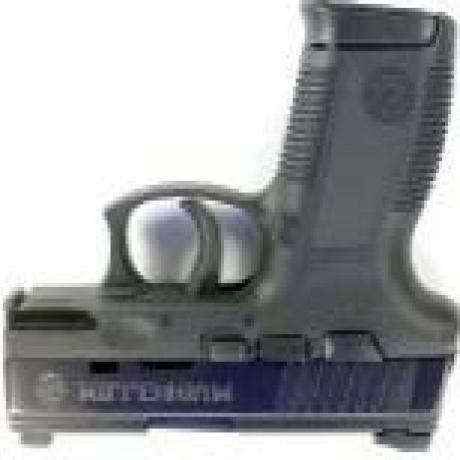weapon: (3, 0, 457, 452)
